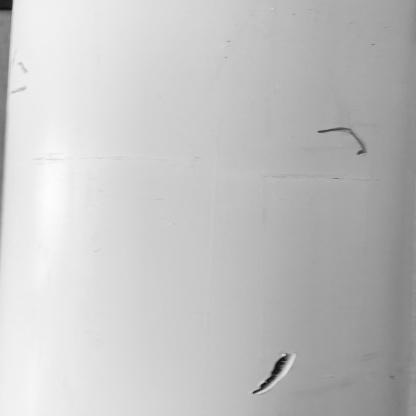fengxi: (312, 119, 375, 157)
kongdong: (258, 348, 297, 396)
